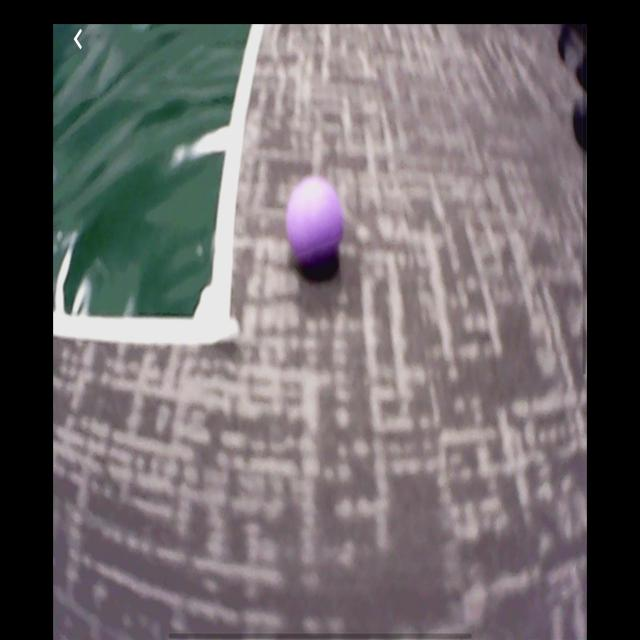ball: (287, 176, 345, 260)
